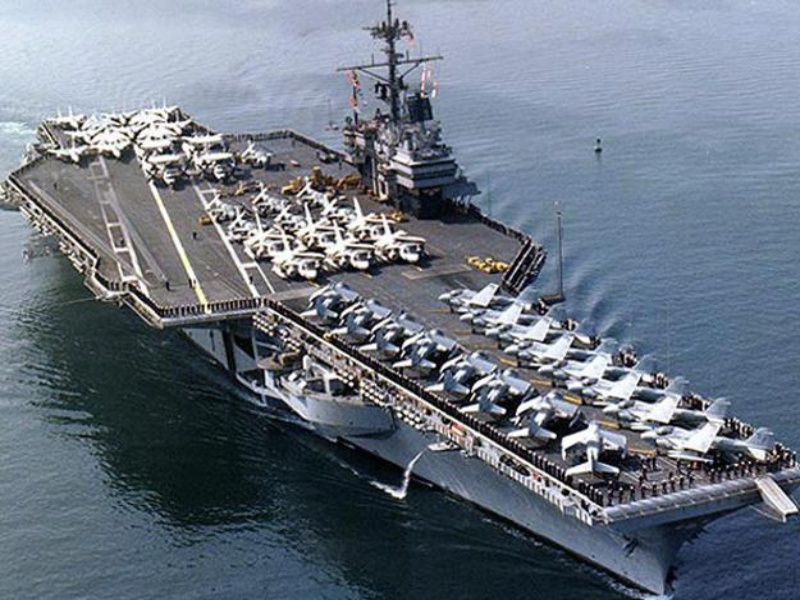carrier: (14, 24, 795, 587)
